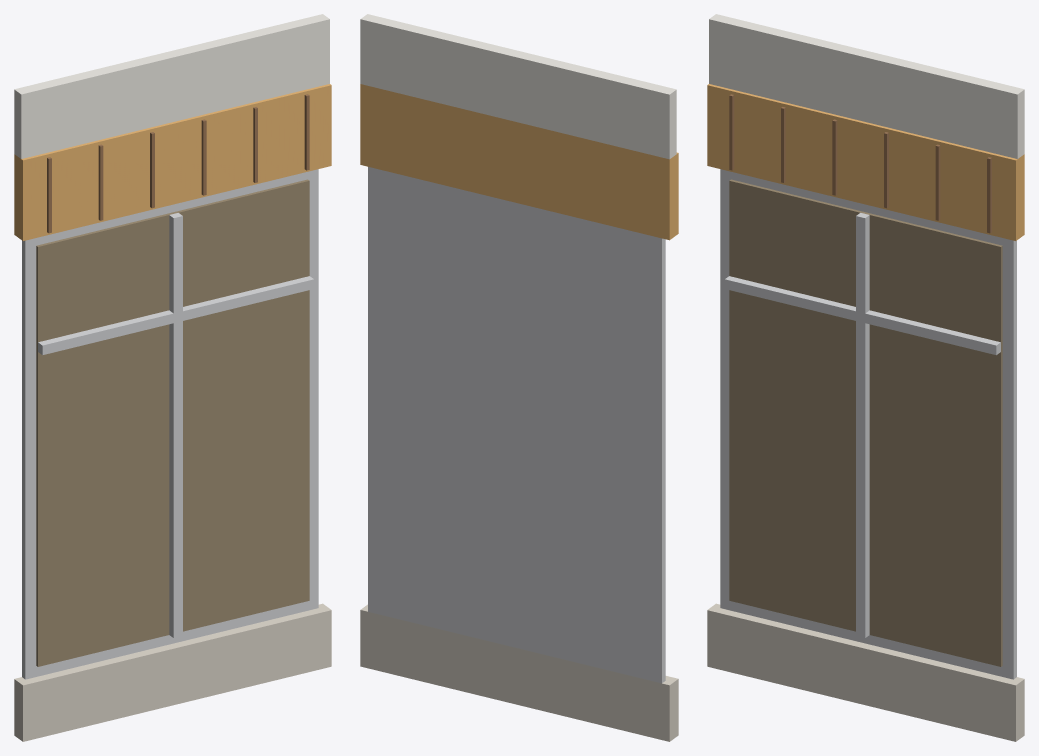
File: HJ_Fachada_Baja.fbx
3 renders of one model, left to right at view 1: azimuth 30°, elevation 25°; view 2: azimuth 150°, elevation 25°; view 3: azimuth 330°, elevation 25°, orthographic.
Visible parts, largest first — view 1: HJ_Fachada_Baja; view 2: HJ_Fachada_Baja; view 3: HJ_Fachada_Baja.
Part boxes in pixels (x1,y1,x2,y2): HJ_Fachada_Baja: (14,14,331,741); HJ_Fachada_Baja: (360,14,678,741); HJ_Fachada_Baja: (707,14,1024,741).
Bounding box in the file's own units: 2 × 4 × 0.12.
